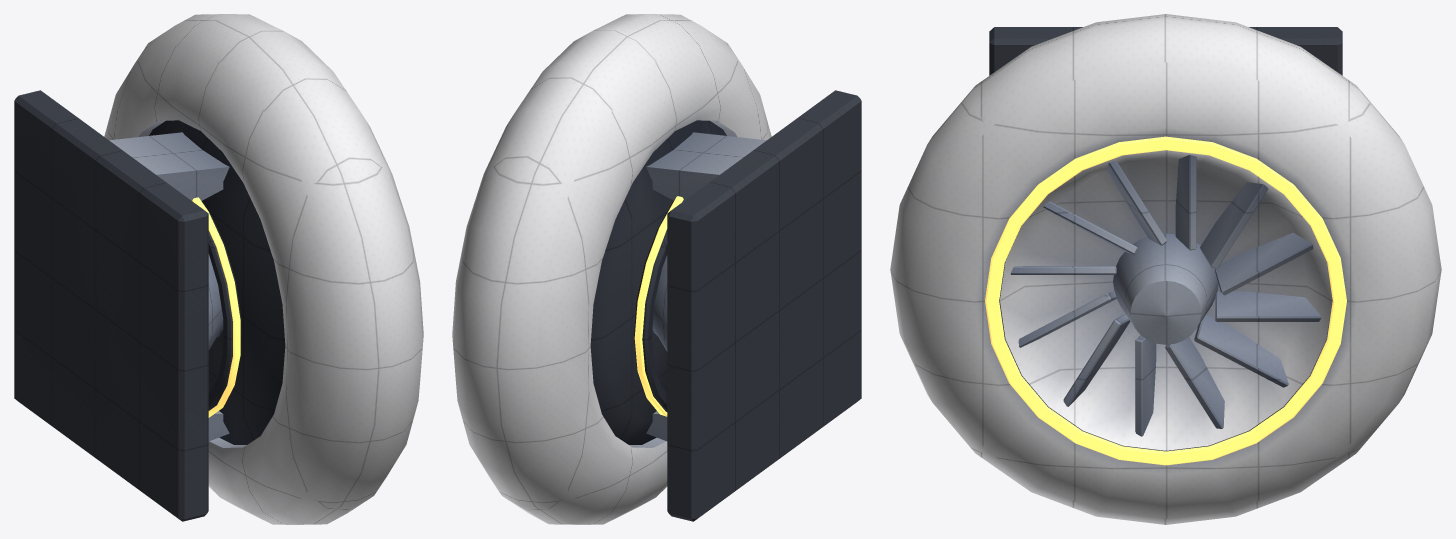
File: R4M_WheelM_Side_Offroad_LOD1.glb
3 views of the same model, side by side, from view 1: azimuth 30°, elevation 25°; view 2: azimuth 150°, elevation 25°; view 3: azimuth 270°, elevation 25° (orthographic). The views are drawn at different scales.
Visible parts, largest first — view 1: R4M_WheelM_Side_Offroad_LOD1; view 2: R4M_WheelM_Side_Offroad_LOD1; view 3: R4M_WheelM_Side_Offroad_LOD1.
Part boxes in pixels (left/top/right/bottom): R4M_WheelM_Side_Offroad_LOD1: left=14, top=14, right=423, bottom=524; R4M_WheelM_Side_Offroad_LOD1: left=452, top=14, right=861, bottom=524; R4M_WheelM_Side_Offroad_LOD1: left=890, top=14, right=1441, bottom=524.
Bounding box in the file's own units: 0.437 × 0.78 × 0.78.
Materials: 4 (3 with a texture image).
